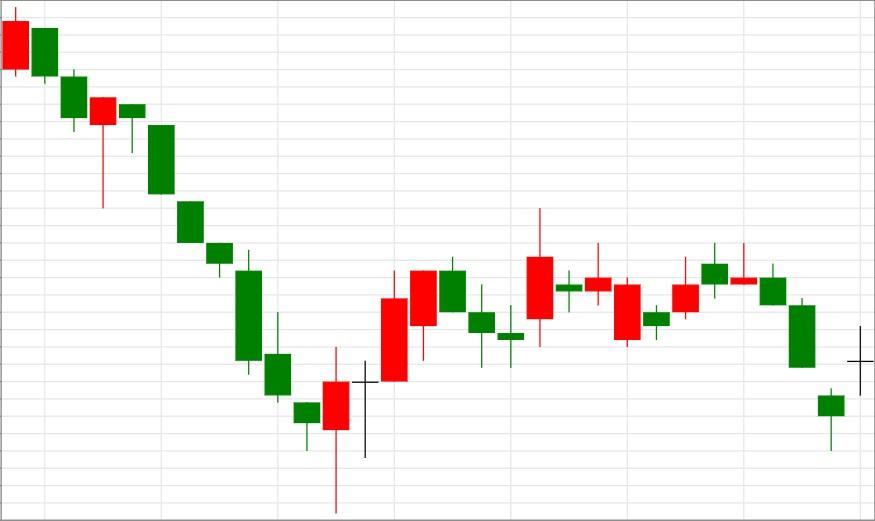bullish_engulfing_rise: (1, 6, 351, 513)
three_black_crows_fall: (322, 256, 524, 514)
